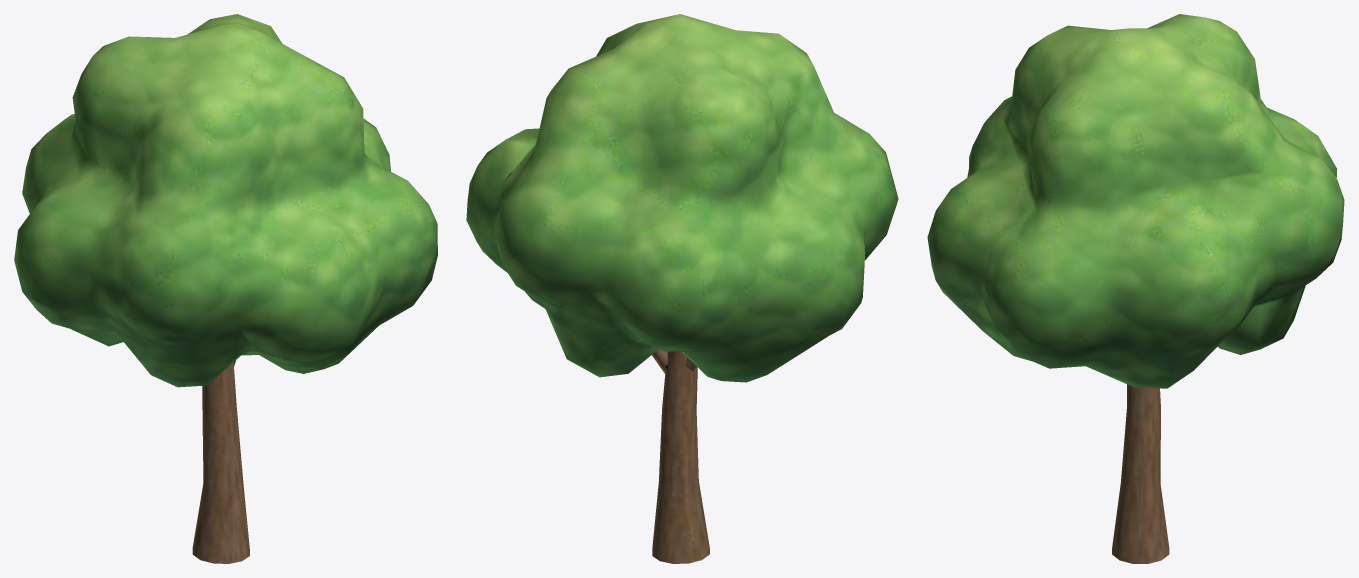
File: SM_Tree_Leafy.glb
3 renders of one model, left to right at view 1: azimuth 30°, elevation 25°; view 2: azimuth 150°, elevation 25°; view 3: azimuth 270°, elevation 25°, orthographic.
Parts seen in each view (by area): view 1: SM_Tree_Leafy; view 2: SM_Tree_Leafy; view 3: SM_Tree_Leafy.
Part boxes in pixels (x1,y1,x2,y2): SM_Tree_Leafy: [14, 14, 437, 563]; SM_Tree_Leafy: [466, 14, 898, 563]; SM_Tree_Leafy: [927, 14, 1344, 563].
Size of what is drawn, in the model's own units: 5.17 by 7 by 5.08.
1 material, 1 textured.
